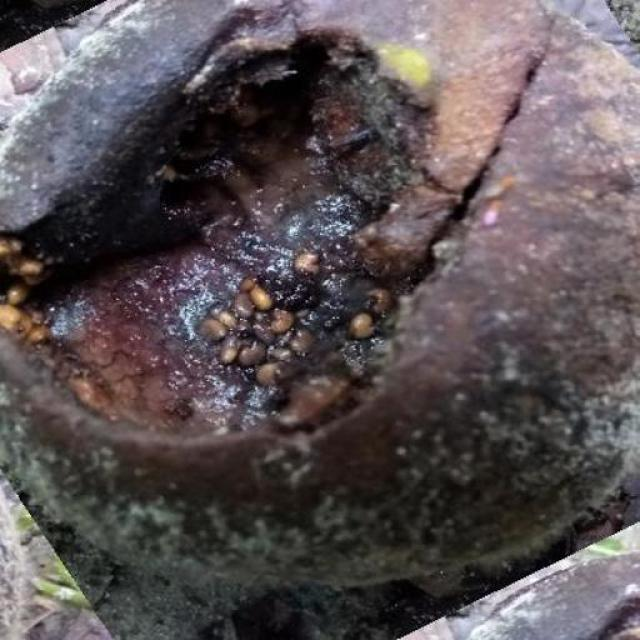Phytopthora: (0, 0, 640, 593)
